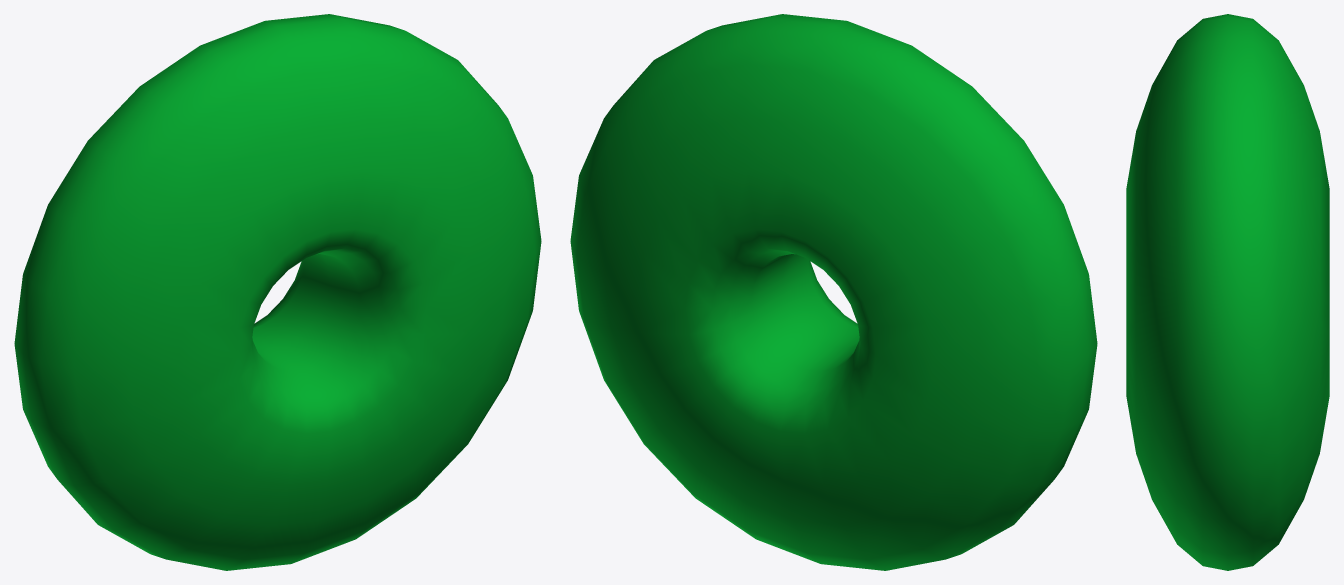
The model's file is jewel2_Jade.fbx.
3 views of the same model, side by side, from view 1: azimuth 30°, elevation 25°; view 2: azimuth 150°, elevation 25°; view 3: azimuth 270°, elevation 25° (orthographic). The views are drawn at different scales.
Visible parts, largest first — view 1: jewel2_Jade; view 2: jewel2_Jade; view 3: jewel2_Jade.
Part boxes in pixels (box(x1,y1,x2,y2)): jewel2_Jade: box(14, 14, 541, 570); jewel2_Jade: box(570, 14, 1097, 570); jewel2_Jade: box(1126, 14, 1329, 570).
Bounding box in the file's own units: 0.6238 × 0.6238 × 0.2265.
